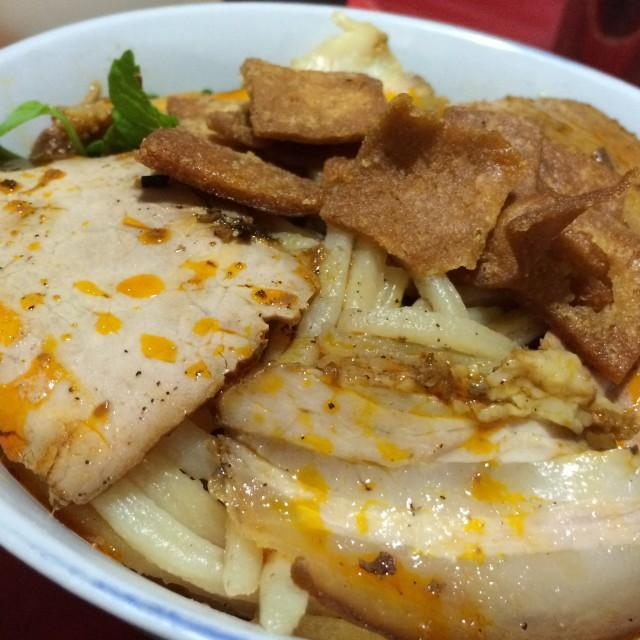banh da: (309, 90, 524, 283), (411, 98, 550, 299), (132, 89, 334, 223), (205, 53, 394, 165), (546, 209, 640, 392)
mi: (232, 207, 552, 389), (68, 410, 317, 639)
mi quang: (0, 22, 640, 640)
thit heo: (203, 325, 640, 640), (0, 145, 325, 514), (432, 80, 640, 280), (585, 261, 640, 583)
